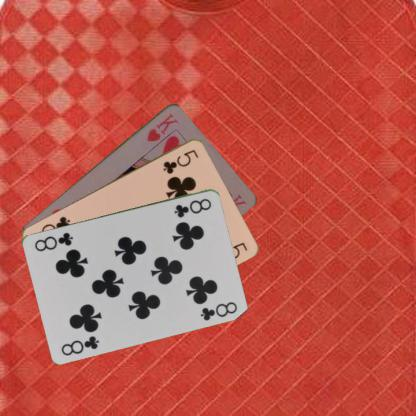5c: (161, 147, 200, 175)
8c: (58, 333, 100, 356), (172, 196, 212, 218)
Kh: (144, 110, 180, 144)
